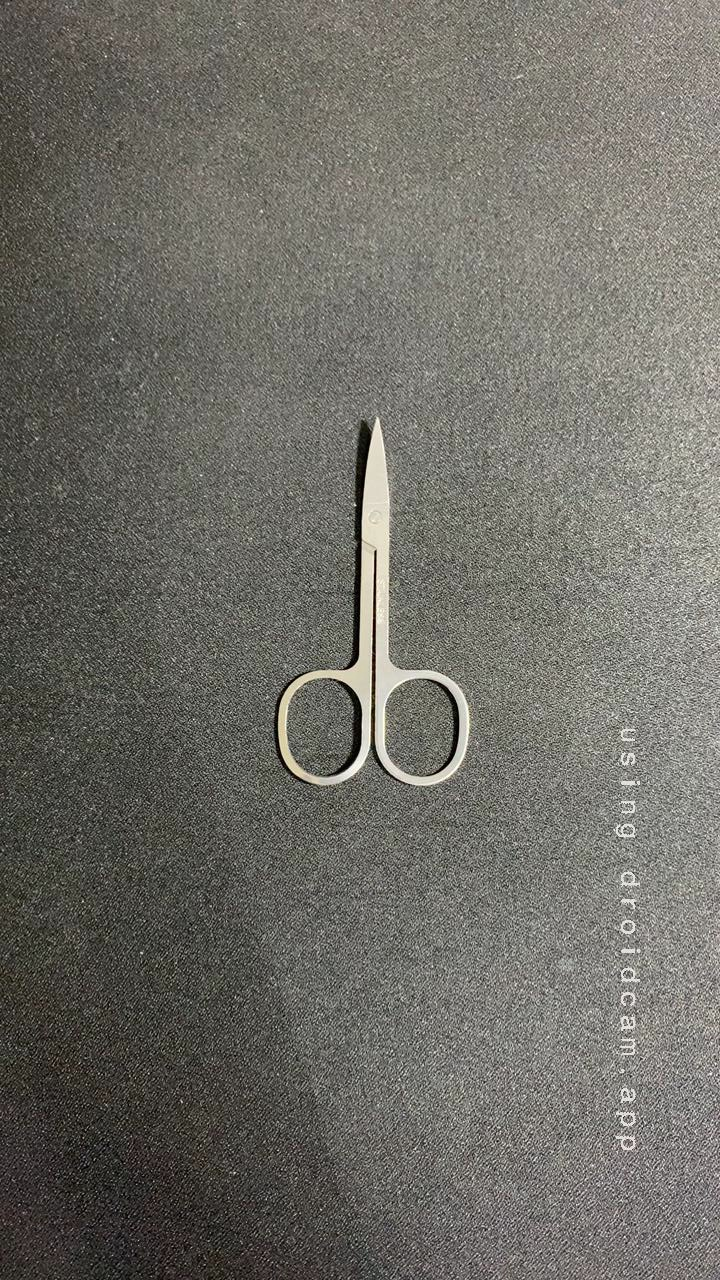scissor: (242, 413, 490, 804)
